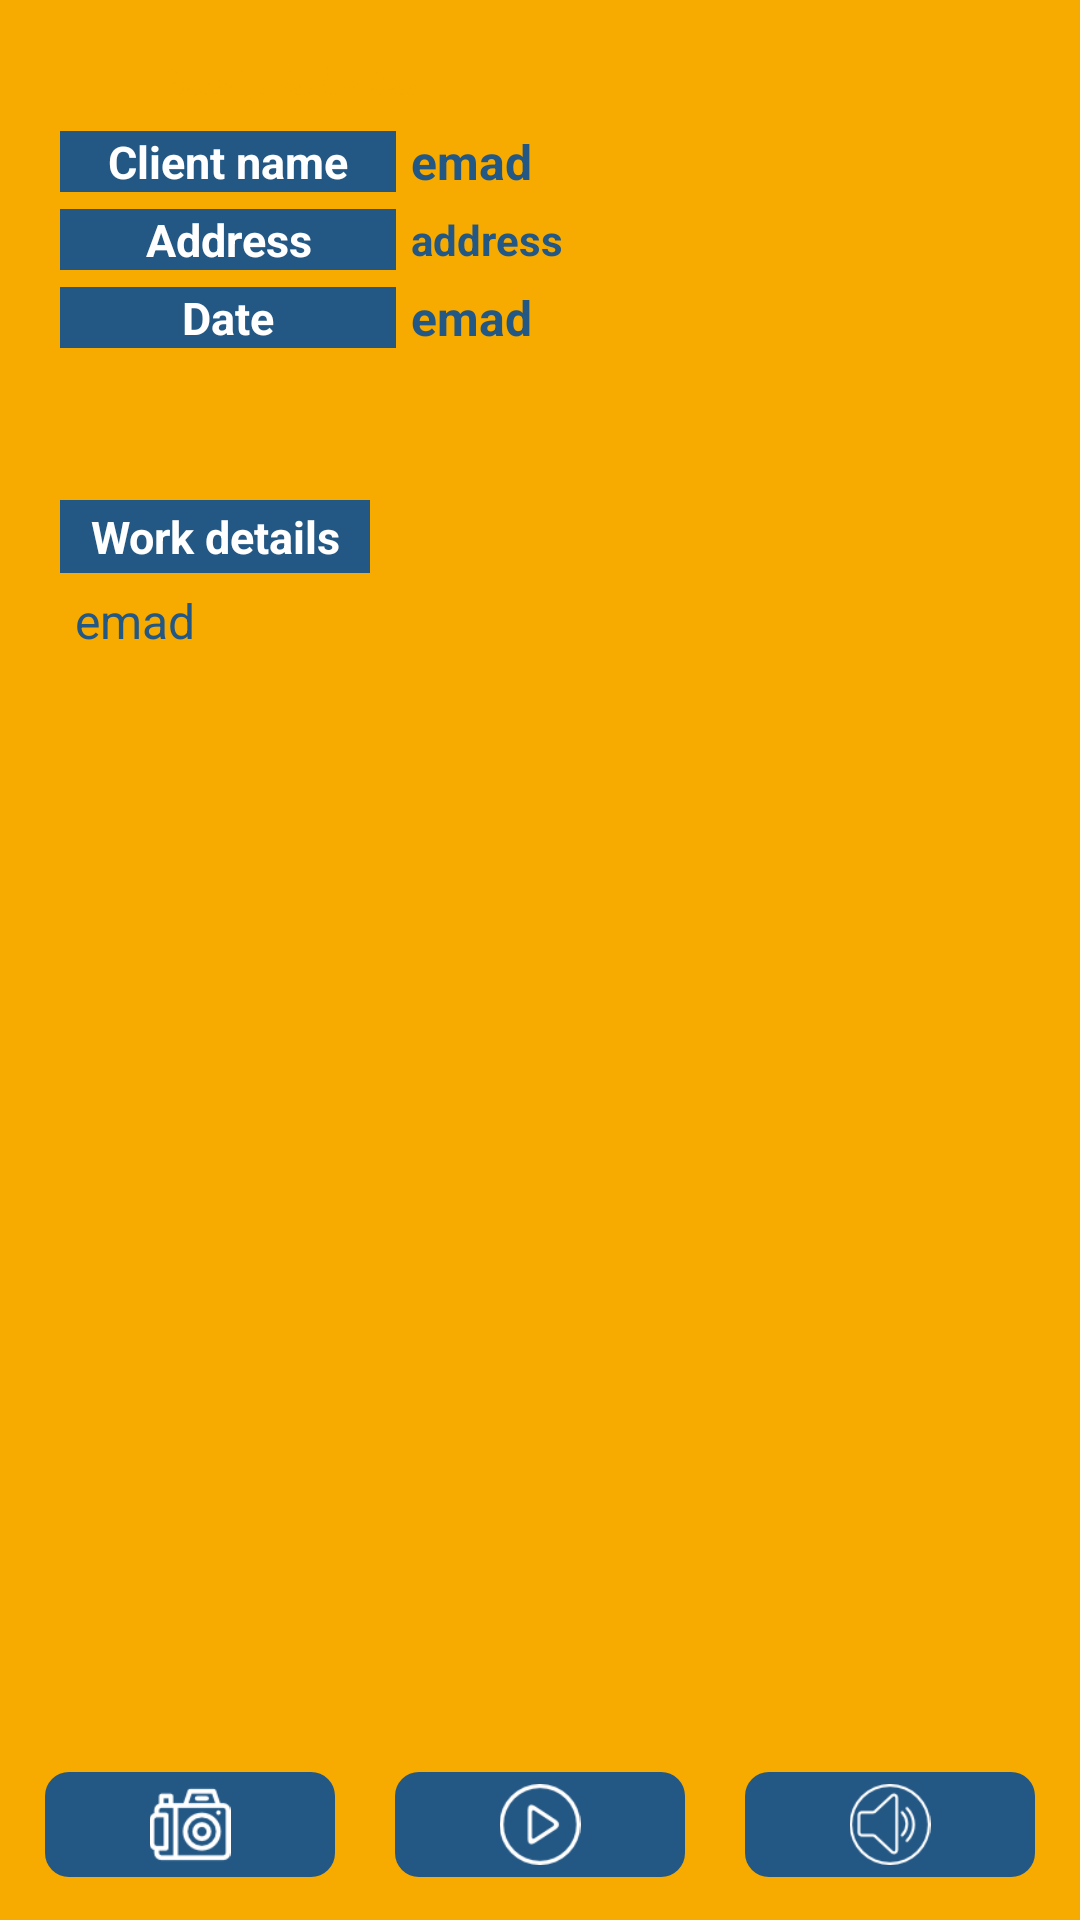

Locate icon controls on the screen. Image size 1080px×1920px, boxes as bbox=[x1, y1, x2, y2].
speaker: bbox=[850, 1784, 931, 1865]
video: bbox=[500, 1784, 581, 1865]
